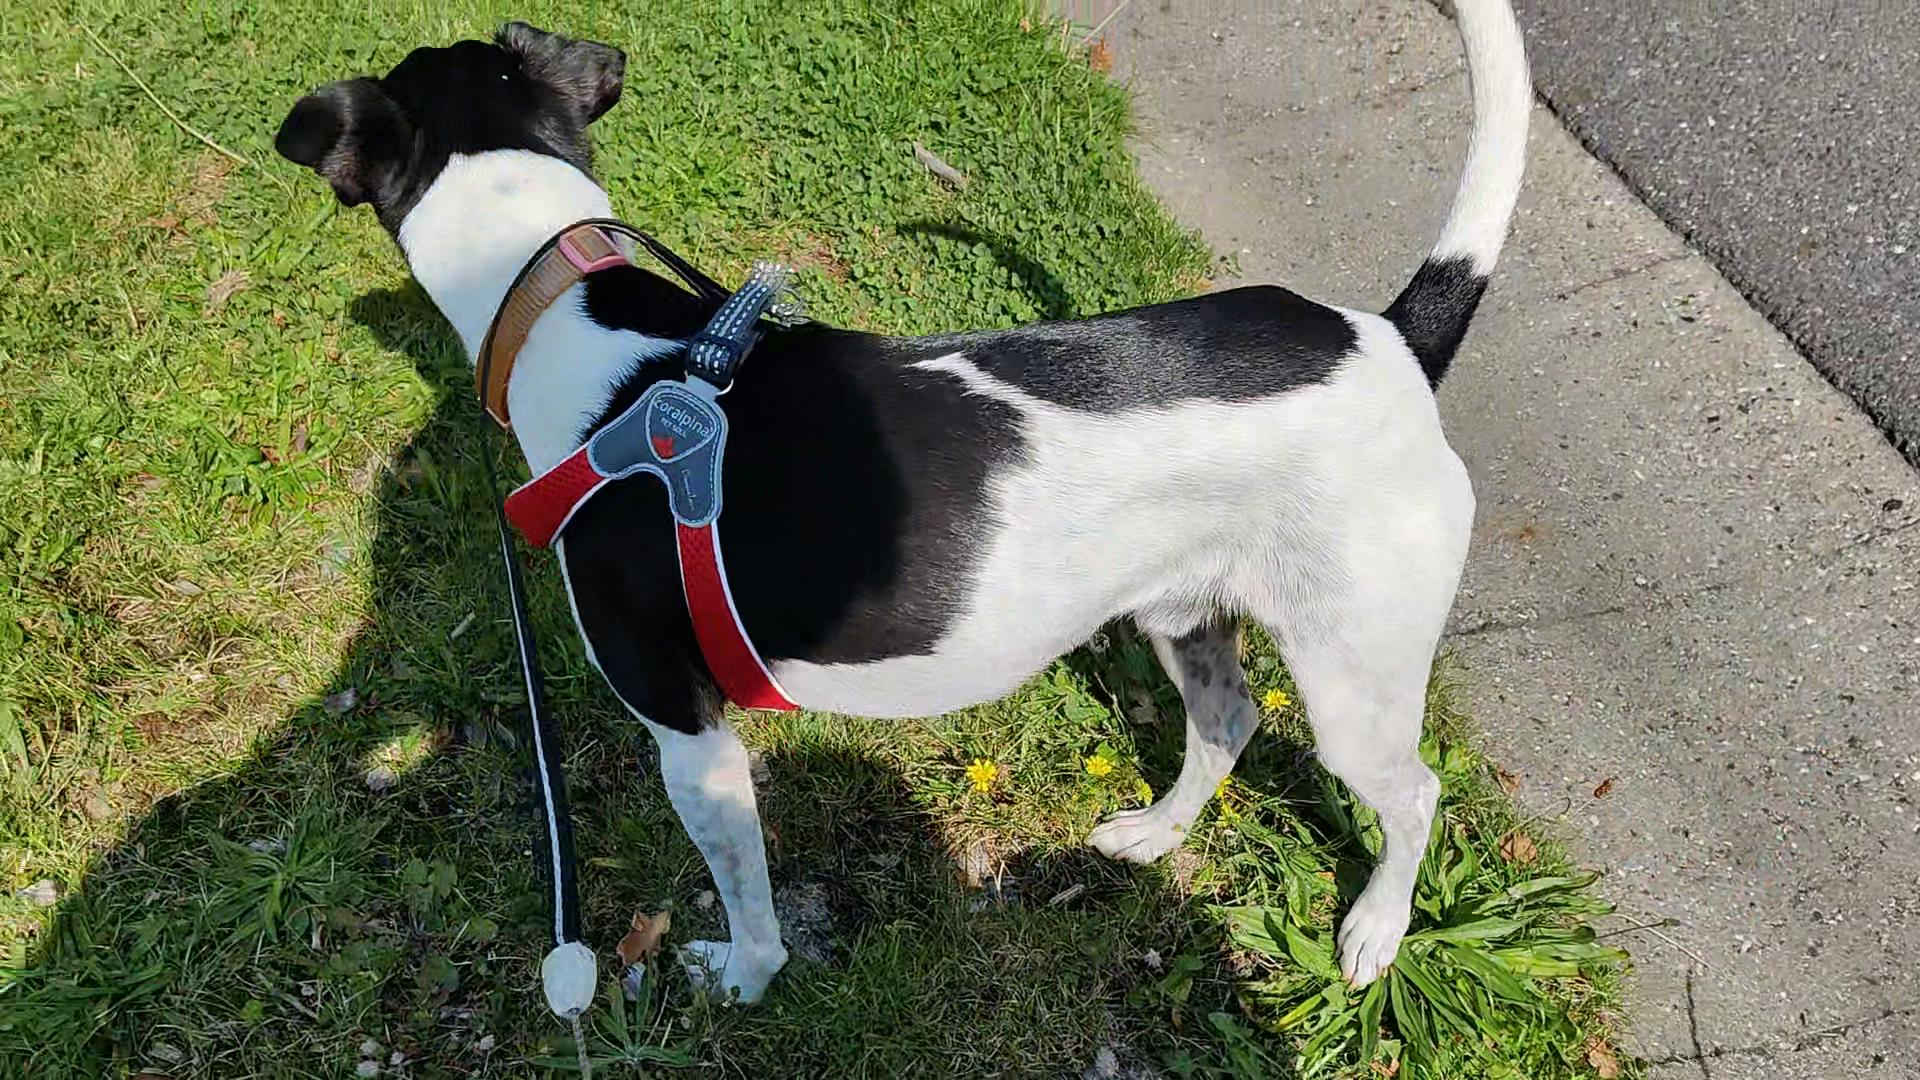Dog: (261, 0, 1543, 1018)
